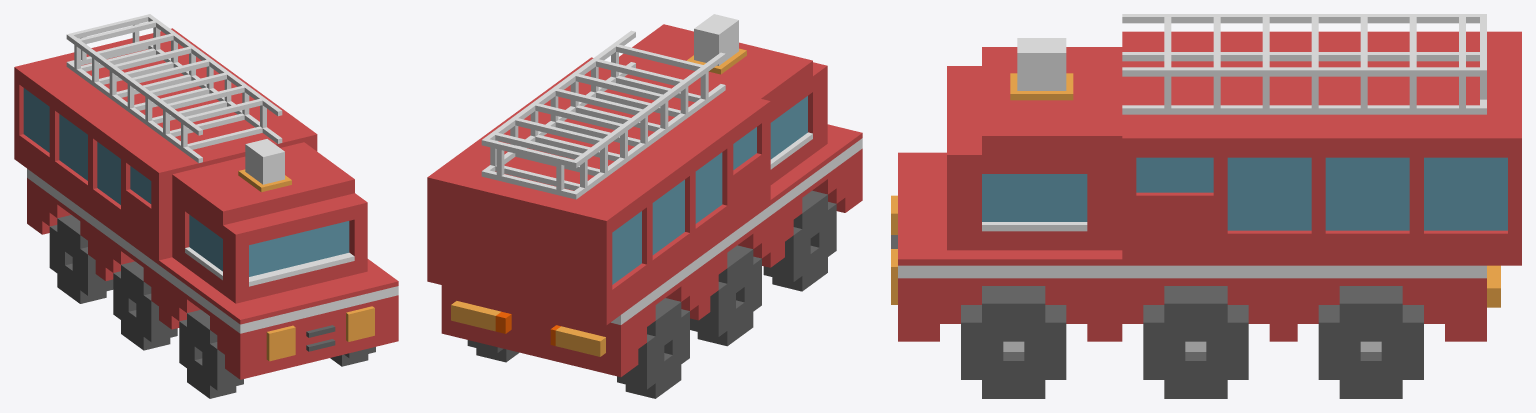
The model's file is FireEngine.obj.
3 renders of one model, left to right at view 1: azimuth 30°, elevation 25°; view 2: azimuth 150°, elevation 25°; view 3: azimuth 270°, elevation 25°, orthographic. The views are drawn at different scales.
Size of the model in its own units: 3.6 by 4.8 by 9.
Materials: 1 (1 with a texture image).
